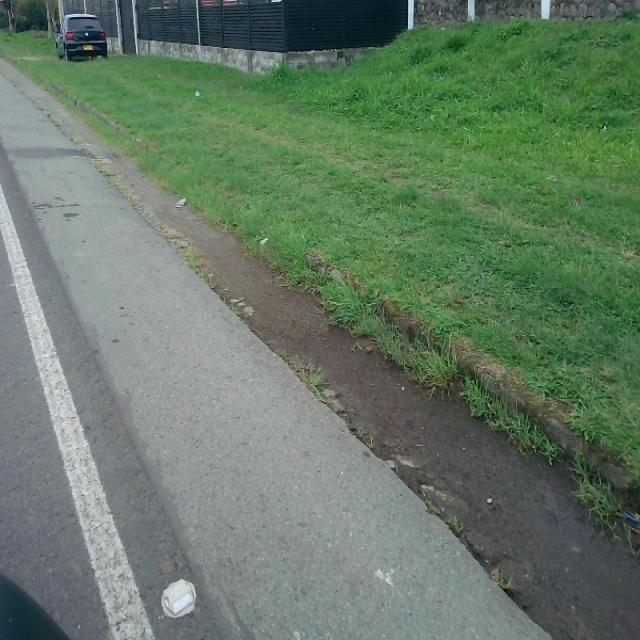DITCH: (1, 55, 638, 638), (1, 61, 638, 638)
